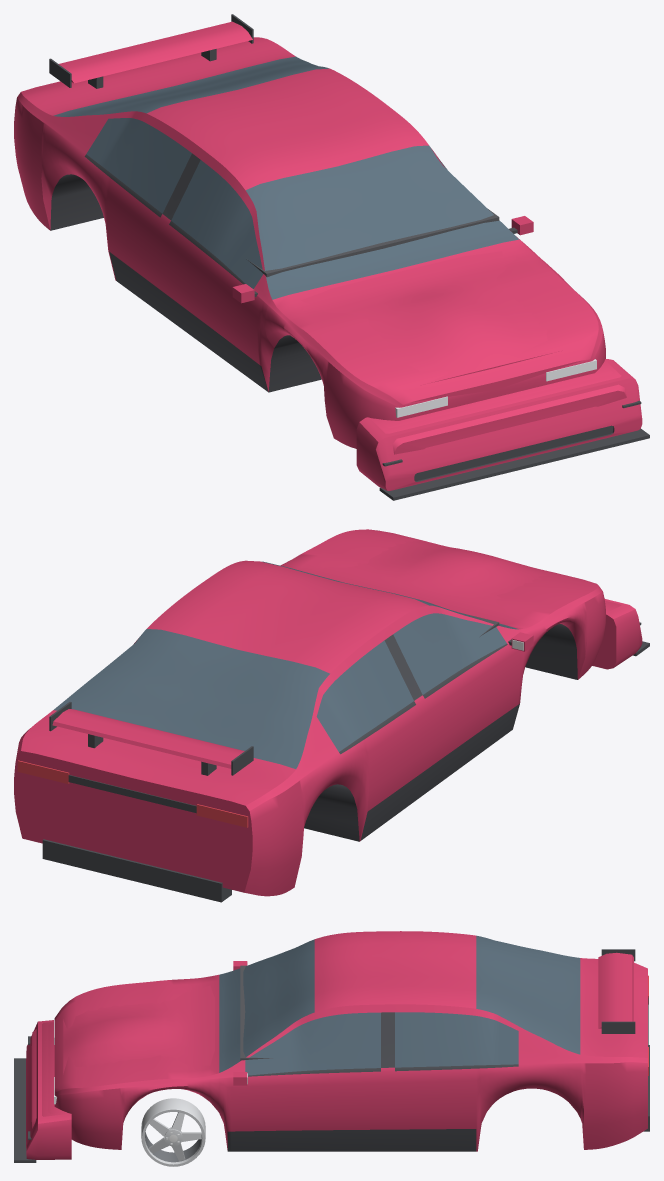
3 renders of one model, top to bottom at view 1: azimuth 30°, elevation 25°; view 2: azimuth 150°, elevation 25°; view 3: azimuth 270°, elevation 25°, orthographic. The views are drawn at different scales.
Parts seen in each view (by area): view 1: body-stock, glass-stock, hood-kit01, bumper_front-kit02, bumper_front-kit01, spoiler-stock, bumper_front-stock, interior-stock, mirrors-stock; view 2: body-stock, glass-stock, hood-kit01, spoiler-stock, bumper_front-kit02, bumper_front-kit01; view 3: body-stock, glass-stock, hood-kit01, bumper_front-kit02, spoiler-stock, rim-stock, bumper_front-kit01, bumper_front-stock, interior-stock.
Part boxes in pixels (box(x1,y1,x2,y2)): body-stock: box(14, 37, 605, 448); glass-stock: box(53, 56, 519, 299); hood-kit01: box(301, 251, 562, 385); bumper_front-kit02: box(356, 359, 649, 500); bumper_front-kit01: box(369, 360, 626, 454); spoiler-stock: box(49, 14, 253, 88); bumper_front-stock: box(375, 363, 612, 427); interior-stock: box(246, 208, 499, 277); mirrors-stock: box(232, 216, 533, 303); body-stock: box(14, 529, 605, 902); glass-stock: box(54, 561, 518, 768); hood-kit01: box(303, 541, 547, 621); spoiler-stock: box(49, 702, 253, 775); bumper_front-kit02: box(592, 599, 649, 669); bumper_front-kit01: box(595, 600, 621, 662); body-stock: box(54, 931, 649, 1151); glass-stock: box(219, 935, 580, 1075); hood-kit01: box(63, 985, 214, 1074); bumper_front-kit02: box(14, 1020, 71, 1162); spoiler-stock: box(598, 949, 635, 1033); rim-stock: box(141, 1098, 205, 1166); bumper_front-kit01: box(31, 1021, 69, 1128); bumper_front-stock: box(48, 1023, 66, 1113); interior-stock: box(240, 965, 272, 1060).
Bounding box in the file's own units: 1.96 × 1.19 × 4.52.
